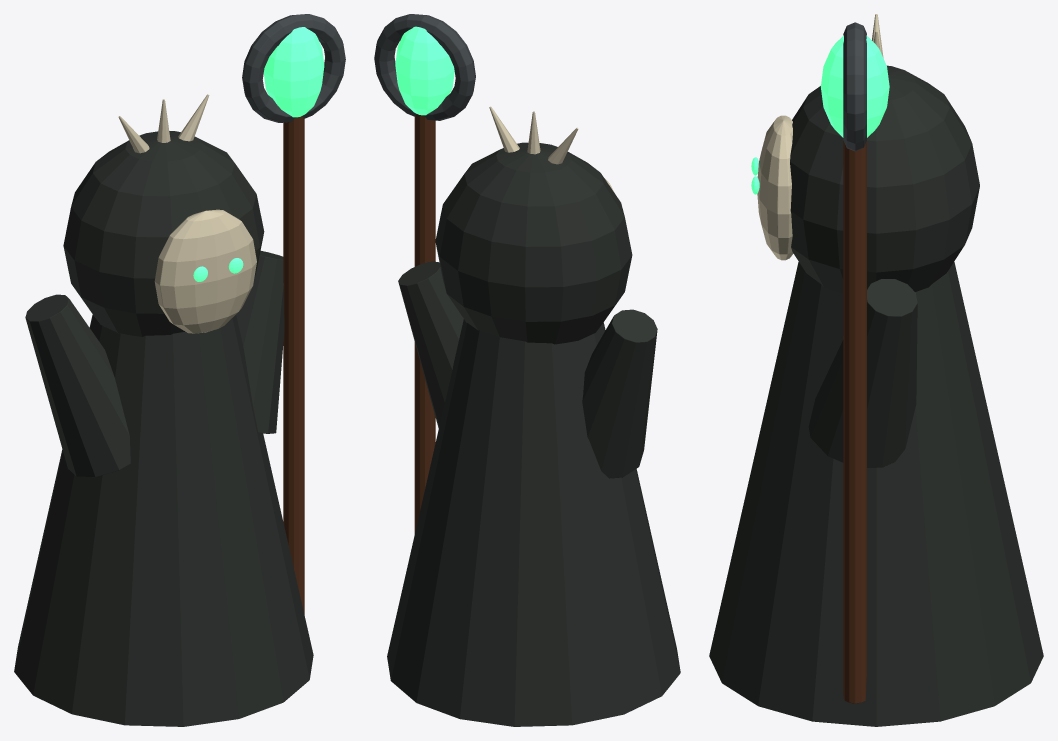
The model's file is CH_Necromancer.fbx.
3 views of the same model, side by side, from view 1: azimuth 30°, elevation 25°; view 2: azimuth 150°, elevation 25°; view 3: azimuth 270°, elevation 25° (orthographic). The views are drawn at different scales.
Visible parts, largest first — view 1: CH_Necromancer; view 2: CH_Necromancer; view 3: CH_Necromancer.
Part boxes in pixels (x1,y1,x2,y2): CH_Necromancer: (14, 14, 345, 726); CH_Necromancer: (374, 14, 680, 726); CH_Necromancer: (709, 14, 1043, 726).
Size of the model in its own units: 145 by 126 by 288.
